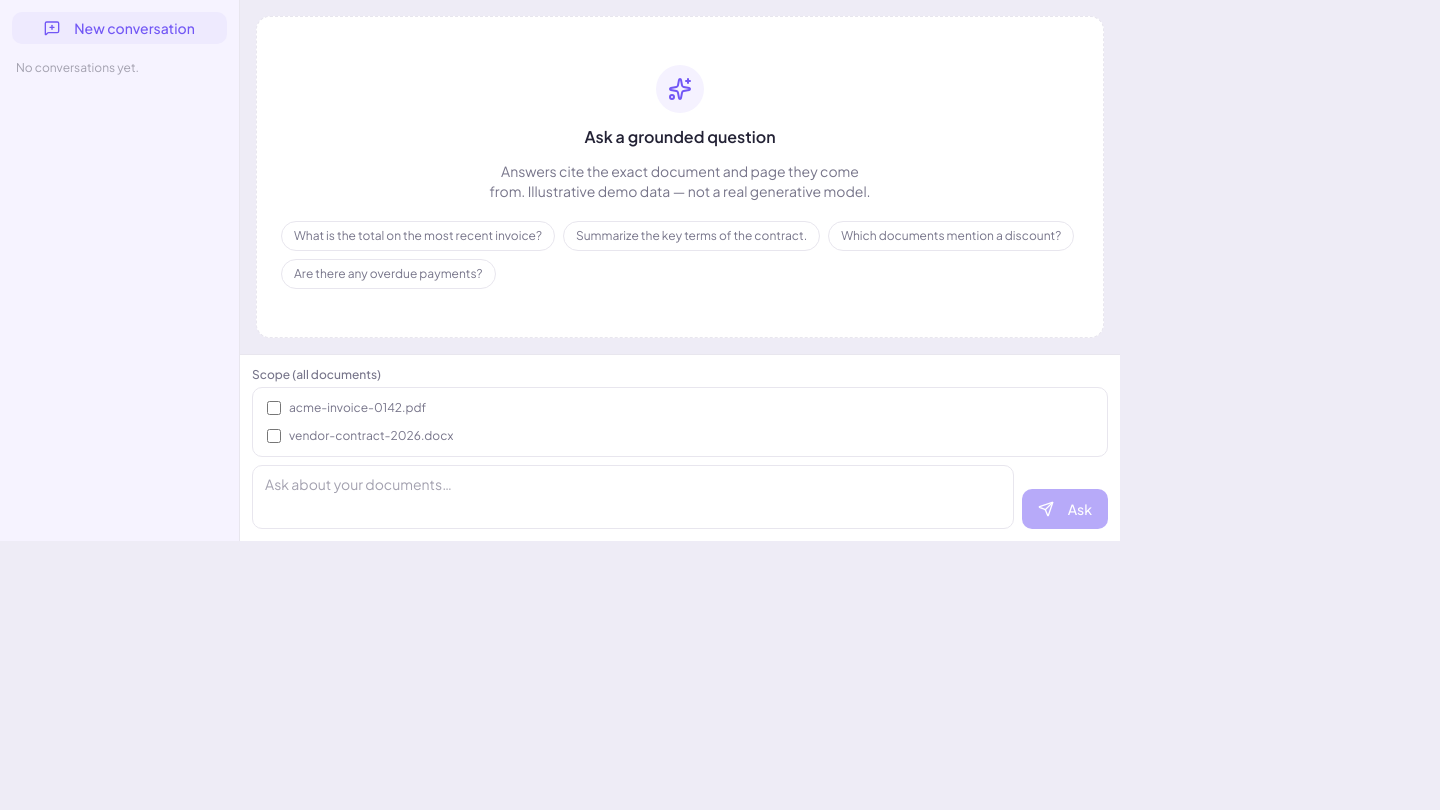
it: AiAssistantPage › shows a provider-error state with a retry action
Click the button "What is the total on the most recent invoice?".
click(418, 236)  # box [281,221,555,251]
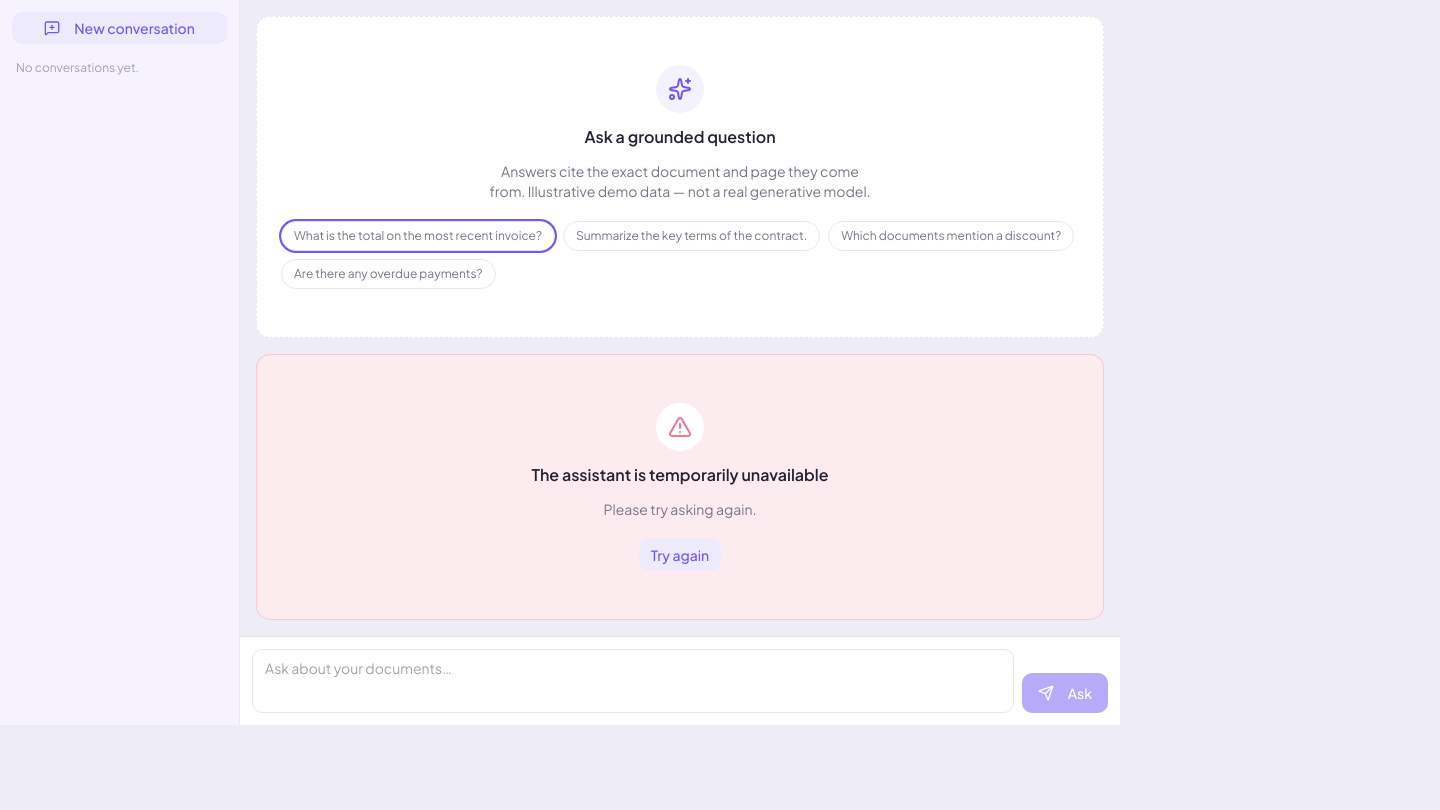
Expected: the heading "The assistant is temporarily unavailable" is shown, [531,463,828,487]
Expected: the button "Try again" is shown, [639,539,721,571]
